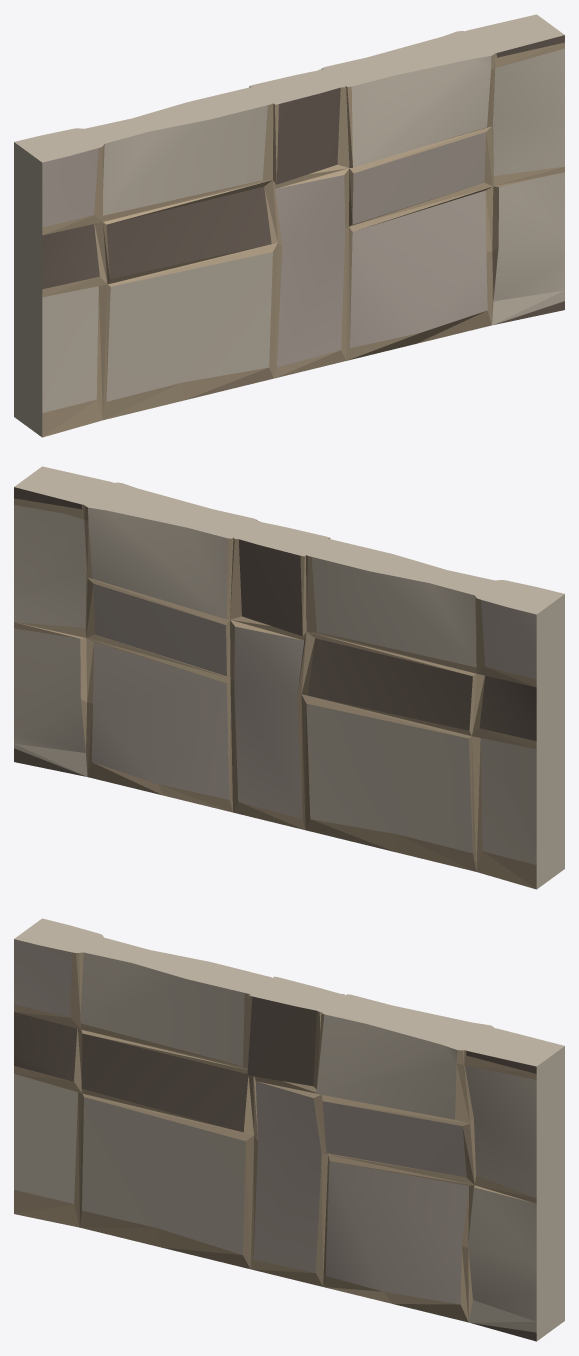
File: RG-Dungeon_small_Wall-02.fbx
3 renders of one model, top to bottom at view 1: azimuth 30°, elevation 25°; view 2: azimuth 150°, elevation 25°; view 3: azimuth 330°, elevation 25°, orthographic.
Parts seen in each view (by area): view 1: RG-Dungeon_small_Wall-02; view 2: RG-Dungeon_small_Wall-02; view 3: RG-Dungeon_small_Wall-02.
Part boxes in pixels (x1,y1,x2,y2): RG-Dungeon_small_Wall-02: (14,14,564,437); RG-Dungeon_small_Wall-02: (14,466,564,889); RG-Dungeon_small_Wall-02: (14,918,564,1341).
Bounding box in the file's own units: 20 × 10.05 × 2.49.
